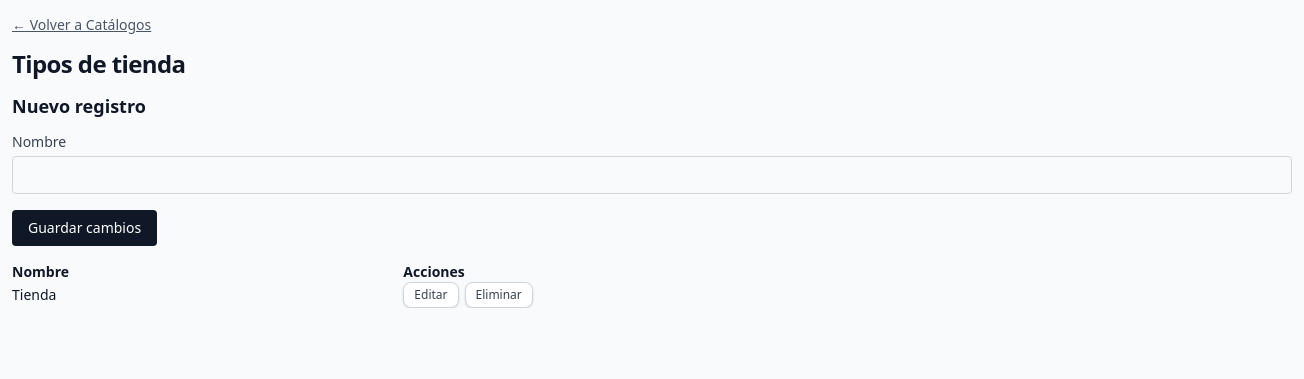
CatalogCrudPage · store_types (ADM-9.1 CRUD + ADM-9.5 cero-request) › ADM-9.4: en uso del server (23503) ⇒ «en uso» amigable y la fila permanece
expect the text "Tienda" is shown: met, box [12, 282, 403, 308]
Click the button "Eliminar": (499, 295) [464, 282, 533, 308]
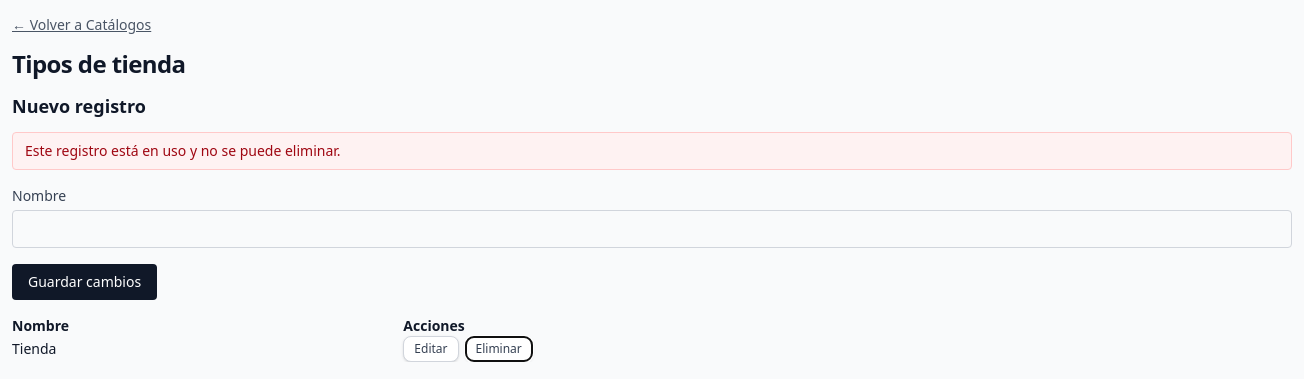
expect the text "Tienda" is shown: met, box [12, 336, 403, 362]
expect the message reads "Este registro está en uso y no se puede eliminar.": met, box [25, 141, 341, 160]
